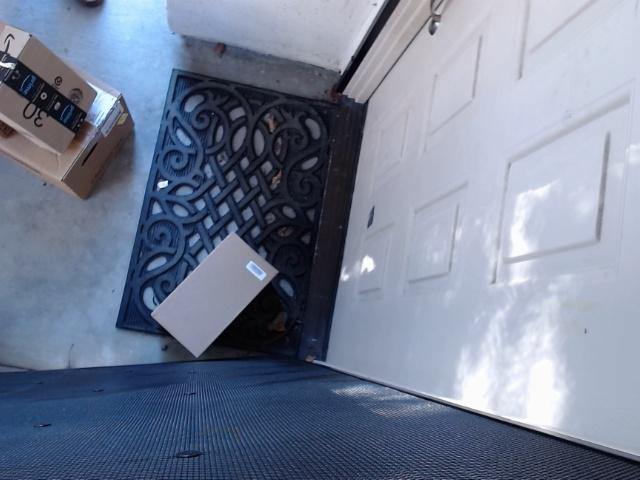box: (0, 18, 148, 196), (147, 220, 290, 356), (0, 23, 105, 149)
